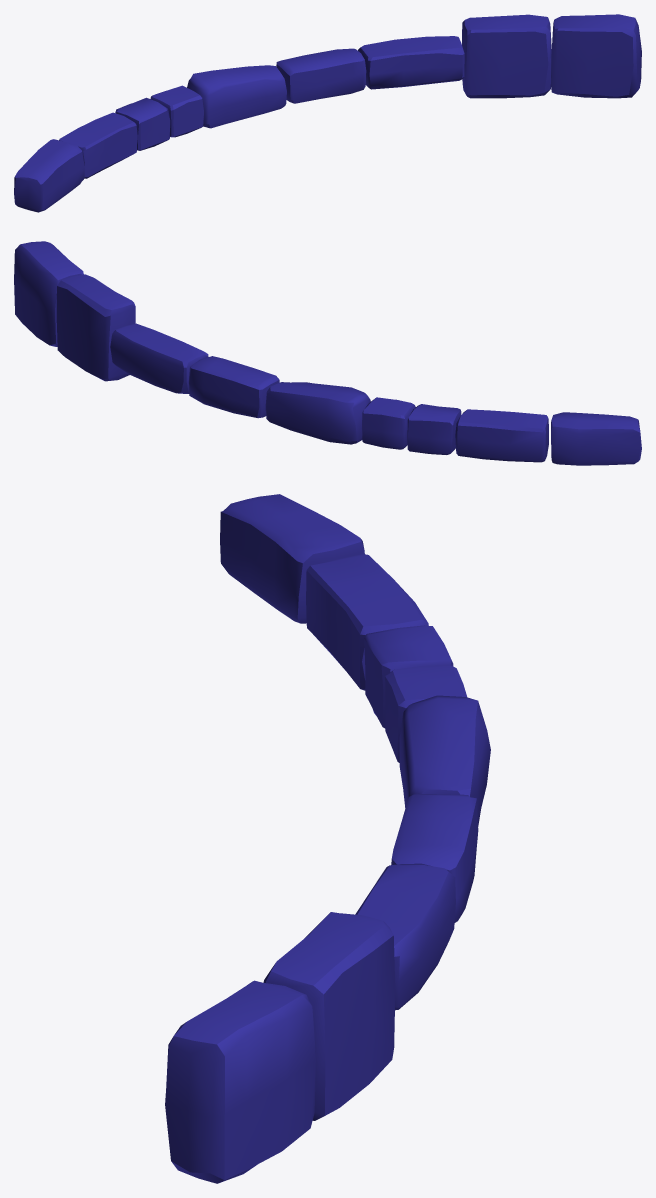
File: Ancient_Stone_Bending_01.fbx
3 renders of one model, top to bottom at view 1: azimuth 30°, elevation 25°; view 2: azimuth 150°, elevation 25°; view 3: azimuth 270°, elevation 25°, orthographic. The views are drawn at different scales.
Visible parts, largest first — view 1: r1, r2, r3, r5, r4, r9, r8, r7, r6; view 2: r2, r5, r9, r8, r1, r3, r4, r7, r6; view 3: r1, r2, r9, r8, r5, r3, r4, r7, r6.
Boxes of the visible parts, x1=… form: r1: x1=551, y1=14, x2=641, y2=98; r2: x1=462, y1=14, x2=551, y2=98; r3: x1=358, y1=36, x2=464, y2=89; r5: x1=187, y1=65, x2=286, y2=128; r4: x1=276, y1=48, x2=366, y2=103; r9: x1=14, y1=139, x2=84, y2=212; r8: x1=59, y1=112, x2=138, y2=178; r7: x1=115, y1=97, x2=170, y2=150; r6: x1=150, y1=85, x2=203, y2=137; r2: x1=56, y1=274, x2=135, y2=381; r5: x1=265, y1=382, x2=370, y2=444; r9: x1=551, y1=412, x2=641, y2=465; r8: x1=455, y1=409, x2=548, y2=462; r1: x1=14, y1=241, x2=83, y2=346; r3: x1=110, y1=323, x2=208, y2=393; r4: x1=188, y1=356, x2=279, y2=418; r7: x1=407, y1=404, x2=461, y2=454; r6: x1=361, y1=397, x2=415, y2=449; r1: x1=165, y1=980, x2=315, y2=1183; r2: x1=263, y1=912, x2=395, y2=1120; r9: x1=220, y1=494, x2=364, y2=623; r8: x1=306, y1=554, x2=428, y2=690; r5: x1=399, y1=695, x2=490, y2=826; r3: x1=355, y1=864, x2=455, y2=1010; r4: x1=391, y1=793, x2=478, y2=922; r7: x1=364, y1=625, x2=453, y2=728; r6: x1=385, y1=665, x2=466, y2=762.
Size of the model in its own units: 3577 by 823 by 409.
